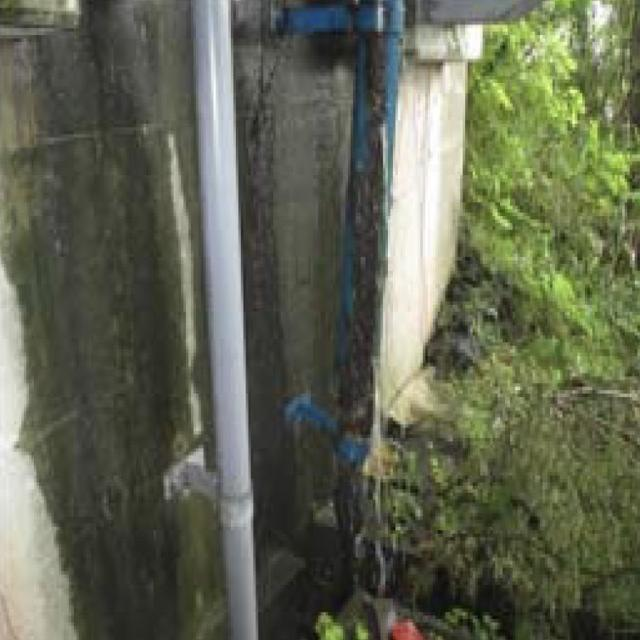leakage: (17, 14, 369, 627)
